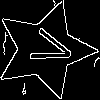V: (20, 24, 76, 71)
